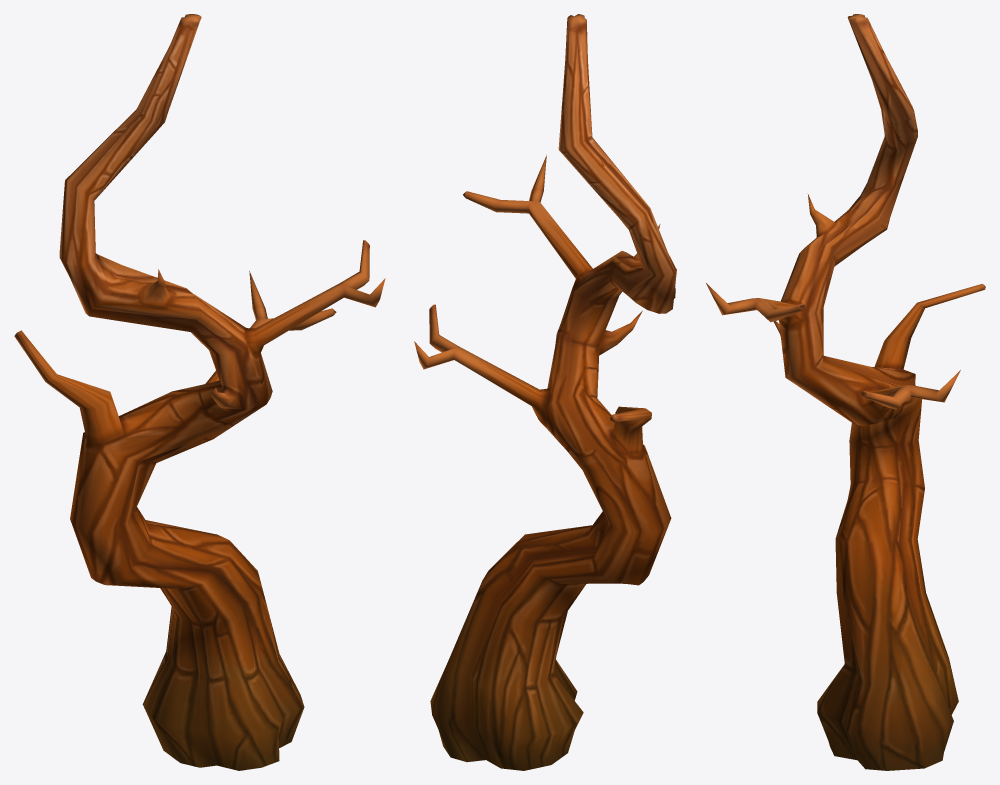
File: Root Tree - Wood.fbx
3 renders of one model, left to right at view 1: azimuth 30°, elevation 25°; view 2: azimuth 150°, elevation 25°; view 3: azimuth 270°, elevation 25°, orthographic. The views are drawn at different scales.
Visible parts, largest first — view 1: Root Tree - Wood; view 2: Root Tree - Wood; view 3: Root Tree - Wood.
Part boxes in pixels (x1,y1,x2,y2): Root Tree - Wood: (14,14,385,770); Root Tree - Wood: (414,14,676,770); Root Tree - Wood: (706,14,985,770).
Bounding box in the file's own units: 97.03 × 266 × 95.86.
